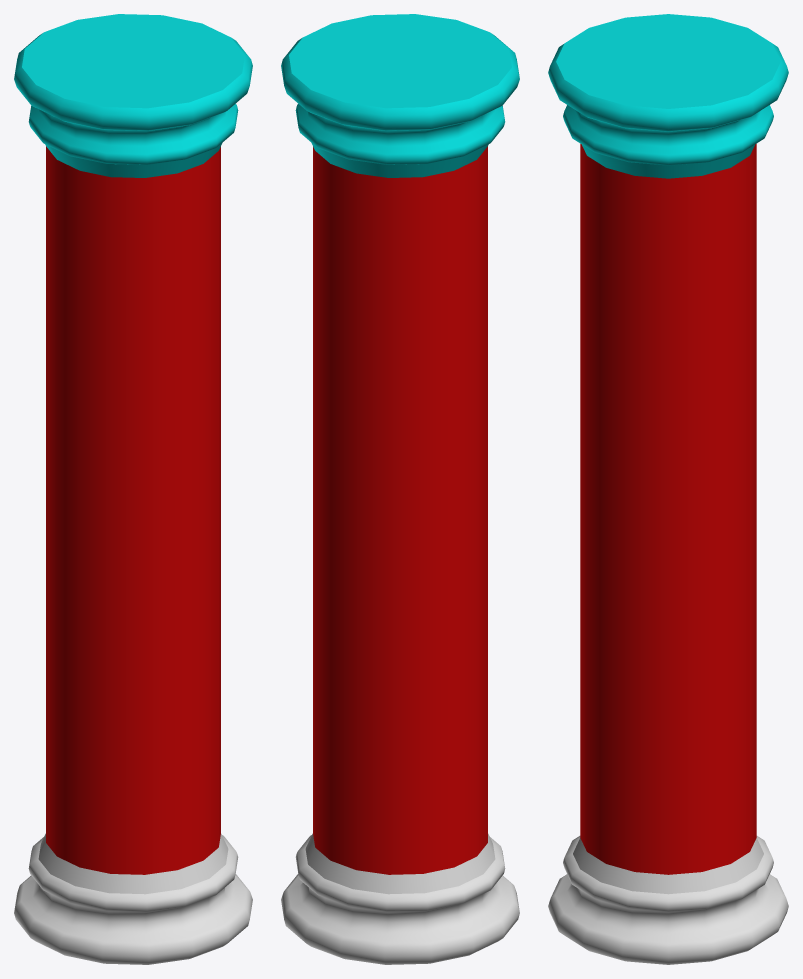
The model's file is SM_ColumnBasic3m.fbx.
The picture shows the model from 3 angles, left to right: view 1: azimuth 30°, elevation 25°; view 2: azimuth 150°, elevation 25°; view 3: azimuth 270°, elevation 25°; orthographic projection.
Parts seen in each view (by area): view 1: SM_ColumnBasic3m; view 2: SM_ColumnBasic3m; view 3: SM_ColumnBasic3m.
Part boxes in pixels (bbox=[...]): SM_ColumnBasic3m: bbox=[14, 14, 252, 964]; SM_ColumnBasic3m: bbox=[281, 14, 519, 964]; SM_ColumnBasic3m: bbox=[548, 14, 788, 964].
Size of the model in its own units: 76.48 by 300 by 76.48.
